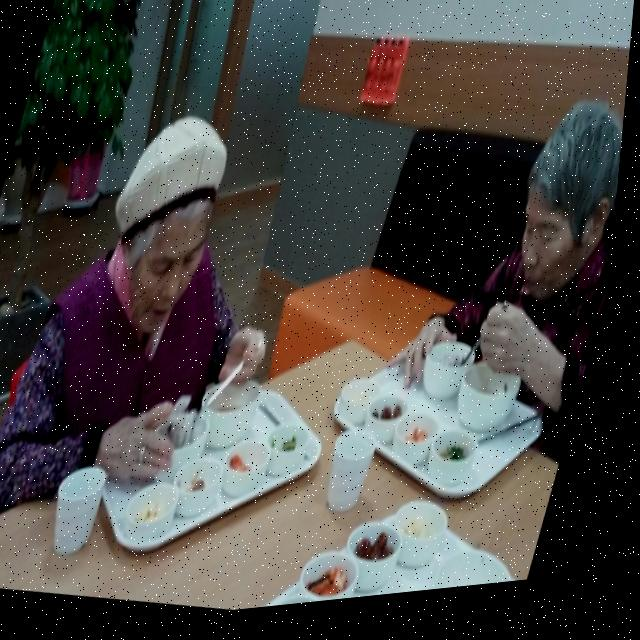eating-person: (0, 53, 421, 610), (300, 42, 633, 567)
